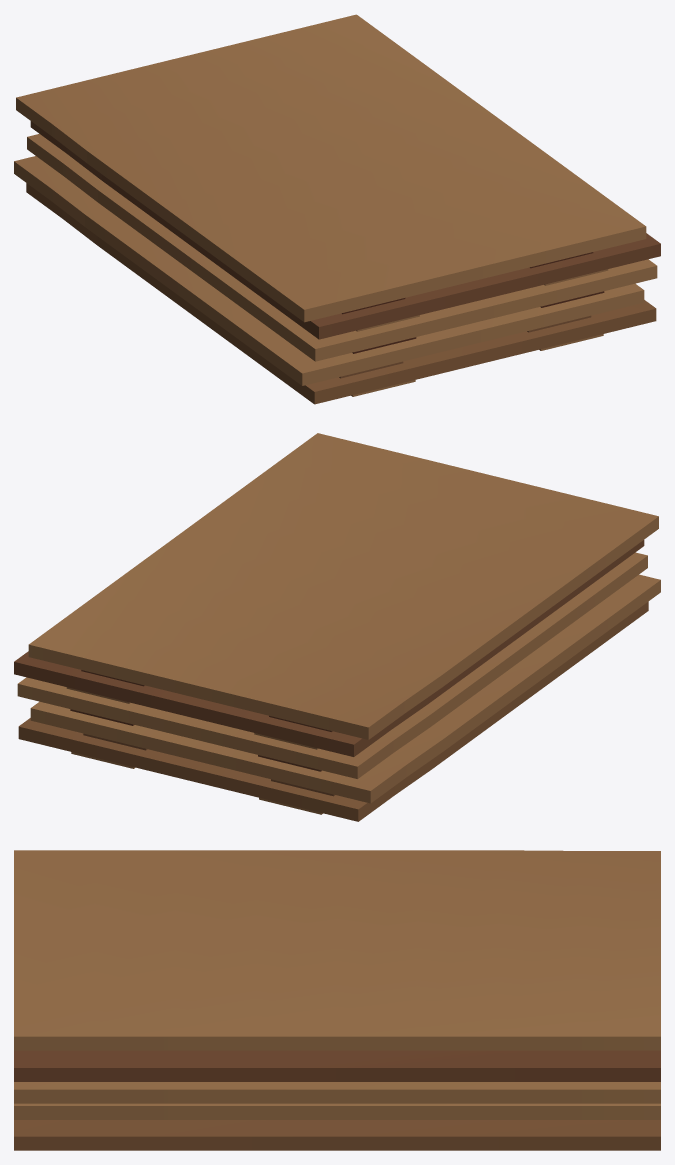
File: Multiple Small Light Crate Lids.fbx
The picture shows the model from 3 angles, top to bottom: view 1: azimuth 30°, elevation 25°; view 2: azimuth 150°, elevation 25°; view 3: azimuth 270°, elevation 25°; orthographic projection. The views are drawn at different scales.
Parts seen in each view (by area): view 1: Small Multiple Light Crate Lids; view 2: Small Multiple Light Crate Lids; view 3: Small Multiple Light Crate Lids.
Boxes of the visible parts, left/top/right/bottom form: Small Multiple Light Crate Lids: left=14, top=14, right=660, bottom=404; Small Multiple Light Crate Lids: left=14, top=433, right=660, bottom=821; Small Multiple Light Crate Lids: left=14, top=850, right=660, bottom=1150.
Bounding box in the file's own units: 41.19 × 204 × 146.
Materials: 1 (1 with a texture image).
